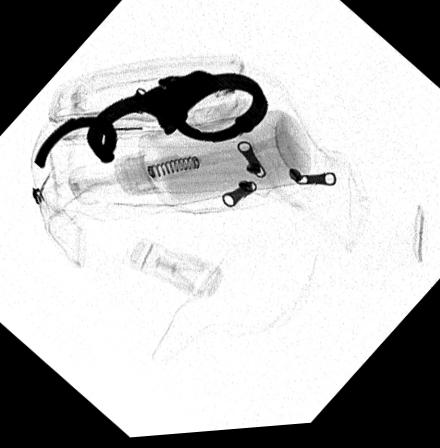HandCuffs: (33, 73, 268, 168)
